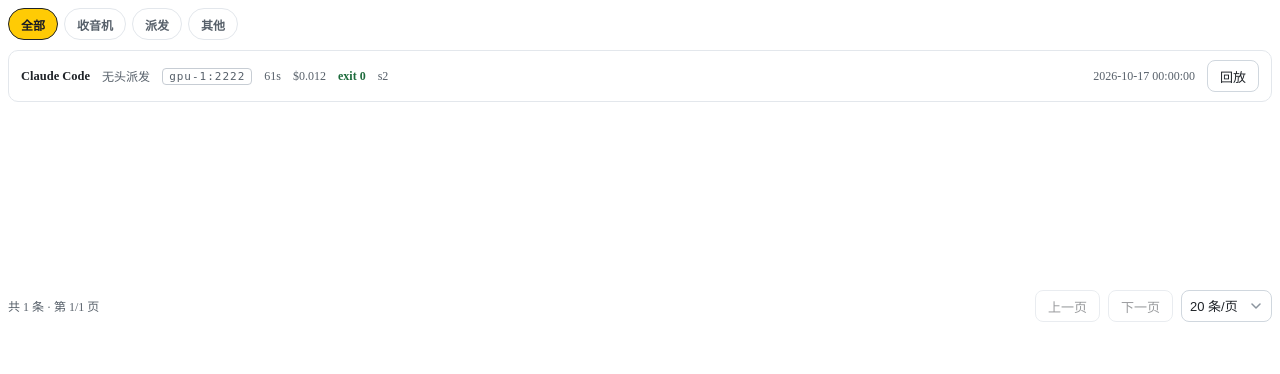
it: 执行世界徽章与回放路由 › 远端行：徽章别名（非默认端口拼接显示）+ 回放经就绪部署路由（快照压过当前配置）
This screenshot has width=1280, height=374.
Expected: the text "gpu-1:2222" is shown, x1=162 y1=68 x2=252 y2=84
Step 1. Click the button with test id "session-replay" → (1233, 76), box x1=1207 y1=60 x2=1259 y2=92
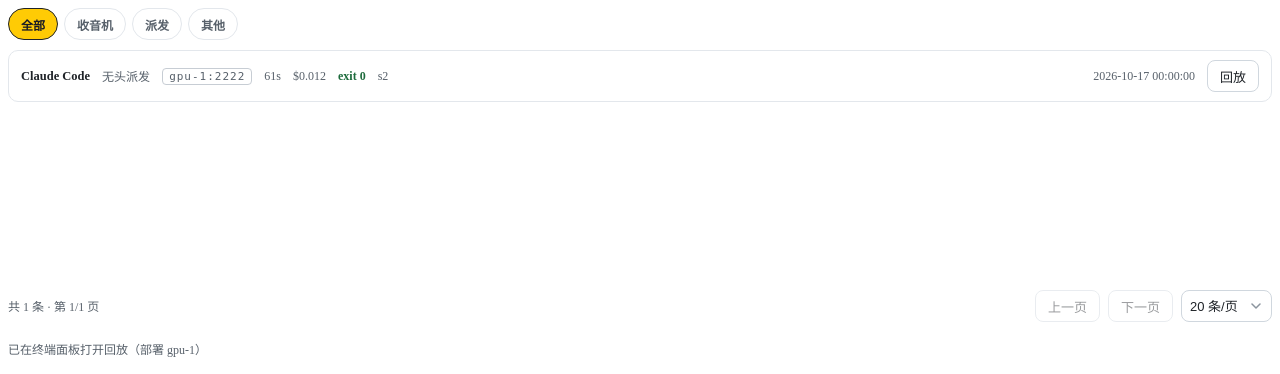
Now the message with test id "session-note" reads "已在终端面板打开回放（部署 gpu-1）", box x1=8 y1=343 x2=207 y2=357
